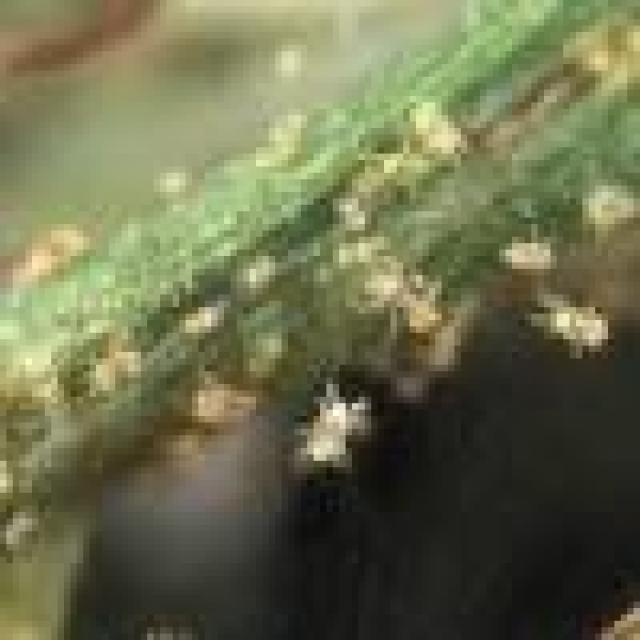Pestalotiopsis: (0, 54, 640, 566)
